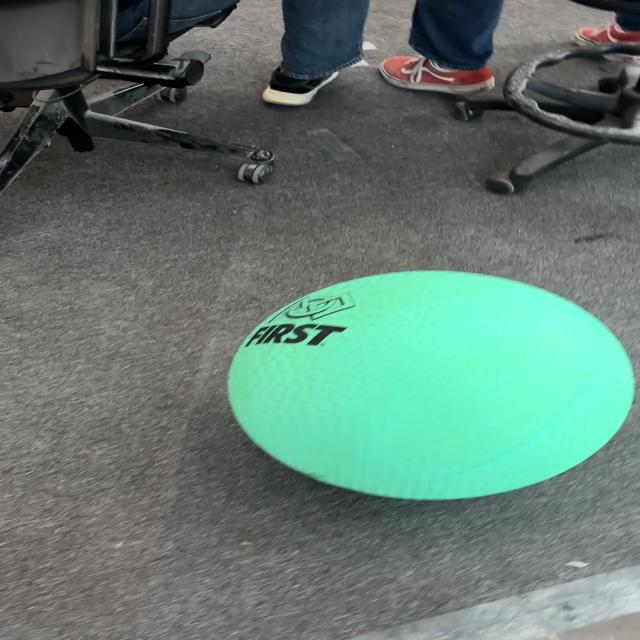Algae: (225, 268, 635, 501)
